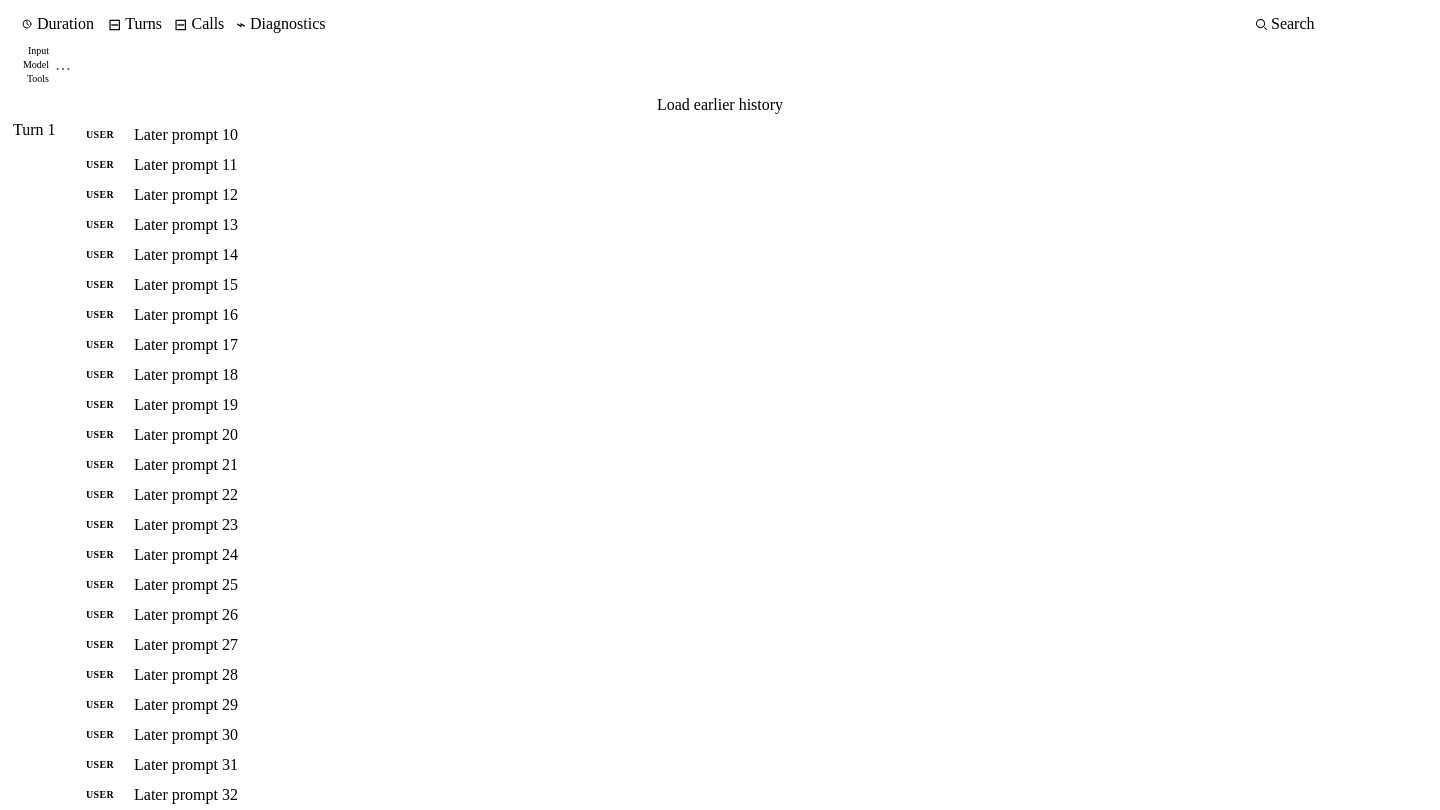
Test case: TrajectoryView line anchor › loads evidence outside the resident history page before opening its details
Click the button with aria-label "Open execution diagnostics". click: (281, 24)
box: x1=231 y1=14 x2=330 y2=34
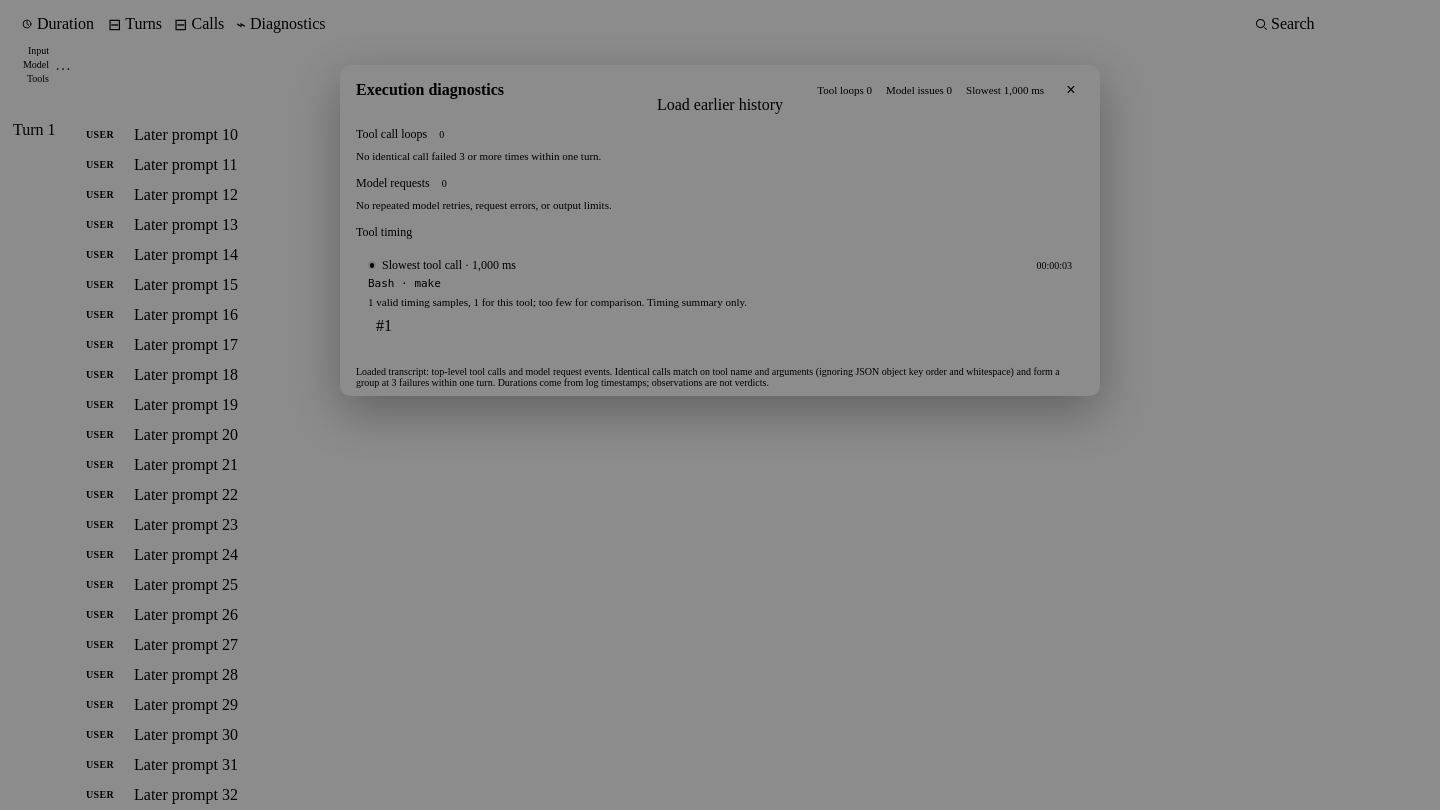
Click the button named "View call 1". click: (384, 326)
box: x1=368 y1=316 x2=400 y2=336
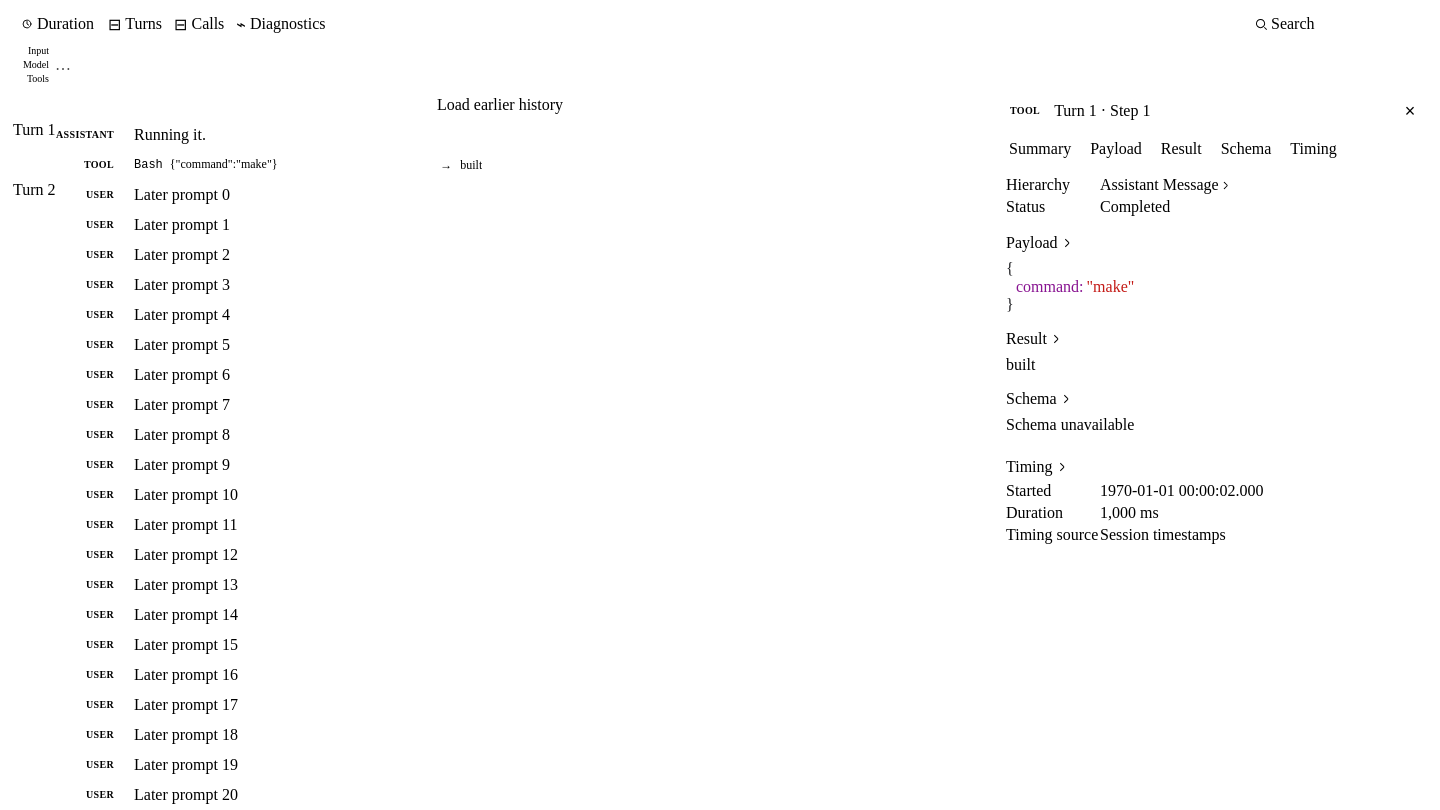
Expected: the text "built" below "Status" is shown, x1=1006 y1=356 x2=1035 y2=373
